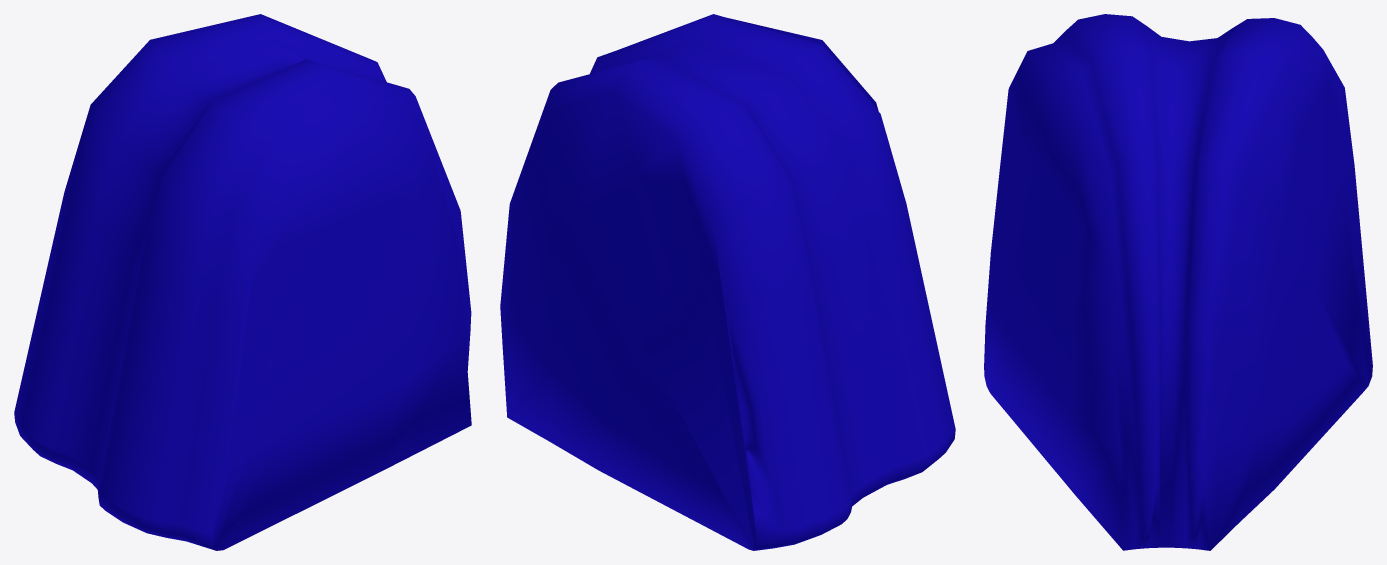
The model's file is jellopiece.glb.
3 views of the same model, side by side, from view 1: azimuth 30°, elevation 25°; view 2: azimuth 150°, elevation 25°; view 3: azimuth 270°, elevation 25° (orthographic). The views are drawn at different scales.
Parts seen in each view (by area): view 1: Cylinder.008; view 2: Cylinder.008; view 3: Cylinder.008.
Part boxes in pixels (box(x1,y1,x2,y2)): Cylinder.008: box(14, 14, 471, 550); Cylinder.008: box(500, 14, 955, 550); Cylinder.008: box(984, 14, 1372, 550).
Bounding box in the file's own units: 7.12 × 7.08 × 5.86.
